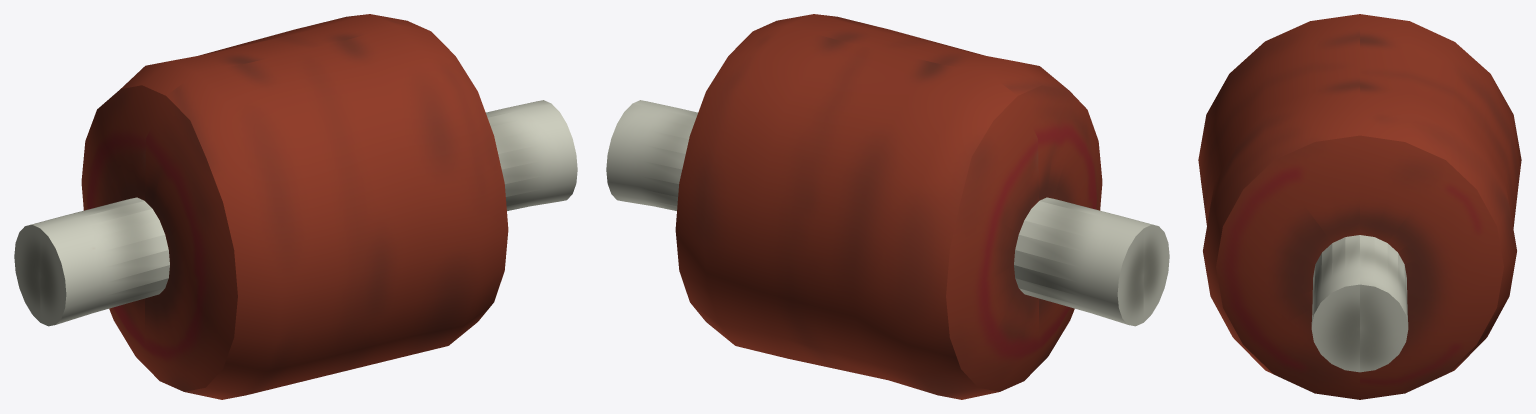
File: meat.fbx
3 renders of one model, left to right at view 1: azimuth 30°, elevation 25°; view 2: azimuth 150°, elevation 25°; view 3: azimuth 270°, elevation 25°, orthographic. The views are drawn at different scales.
Visible parts, largest first — view 1: pCylinder3; view 2: pCylinder3; view 3: pCylinder3.
Part boxes in pixels (bbox=[...]): pCylinder3: bbox=[14, 14, 577, 399]; pCylinder3: bbox=[606, 14, 1169, 399]; pCylinder3: bbox=[1198, 14, 1521, 399].
Size of the model in its own units: 170 by 100 by 99.99.
Materials: 1 (1 with a texture image).
